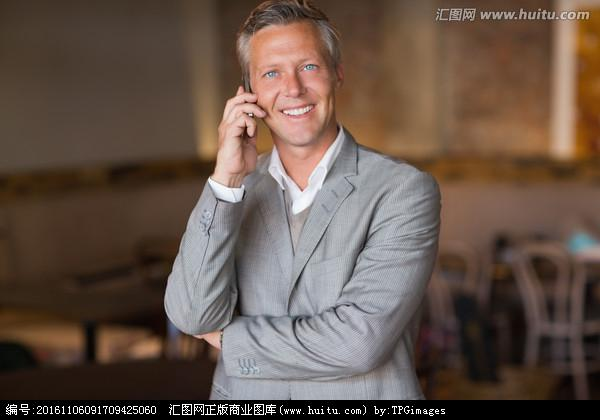calling: (213, 67, 270, 177)
